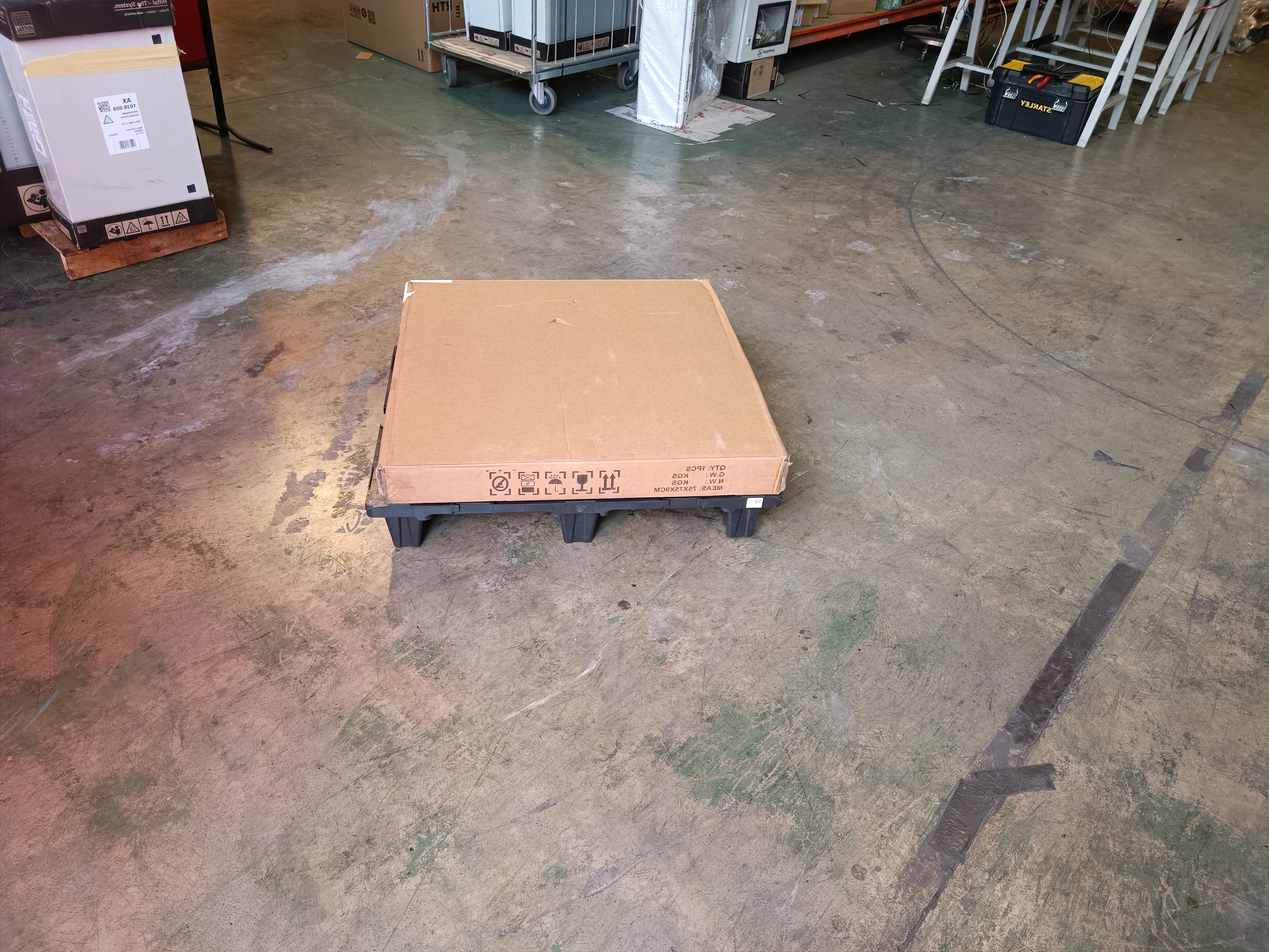block: (379, 516, 425, 552), (556, 513, 599, 546), (726, 510, 760, 543)
front: (370, 497, 774, 565)
hole pallet: (425, 511, 558, 549), (593, 513, 730, 539)
